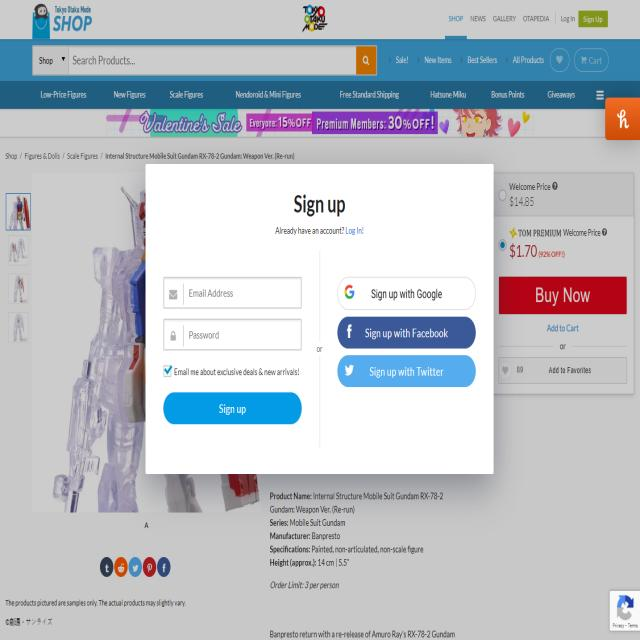sneaking: (144, 161, 496, 479), (496, 273, 633, 392)
